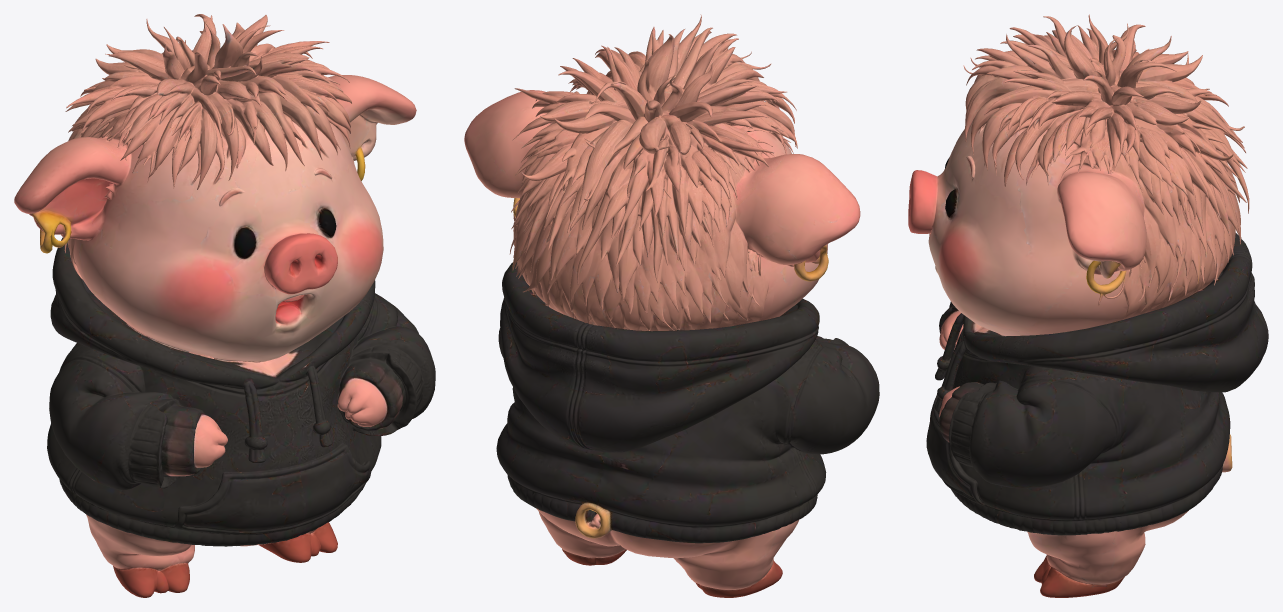
The model's file is little-pig.glb.
3 renders of one model, left to right at view 1: azimuth 30°, elevation 25°; view 2: azimuth 150°, elevation 25°; view 3: azimuth 270°, elevation 25°, orthographic. The views are drawn at different scales.
Bounding box in the file's own units: 1.45 × 1.9 × 1.18.
1 material, 1 textured.
